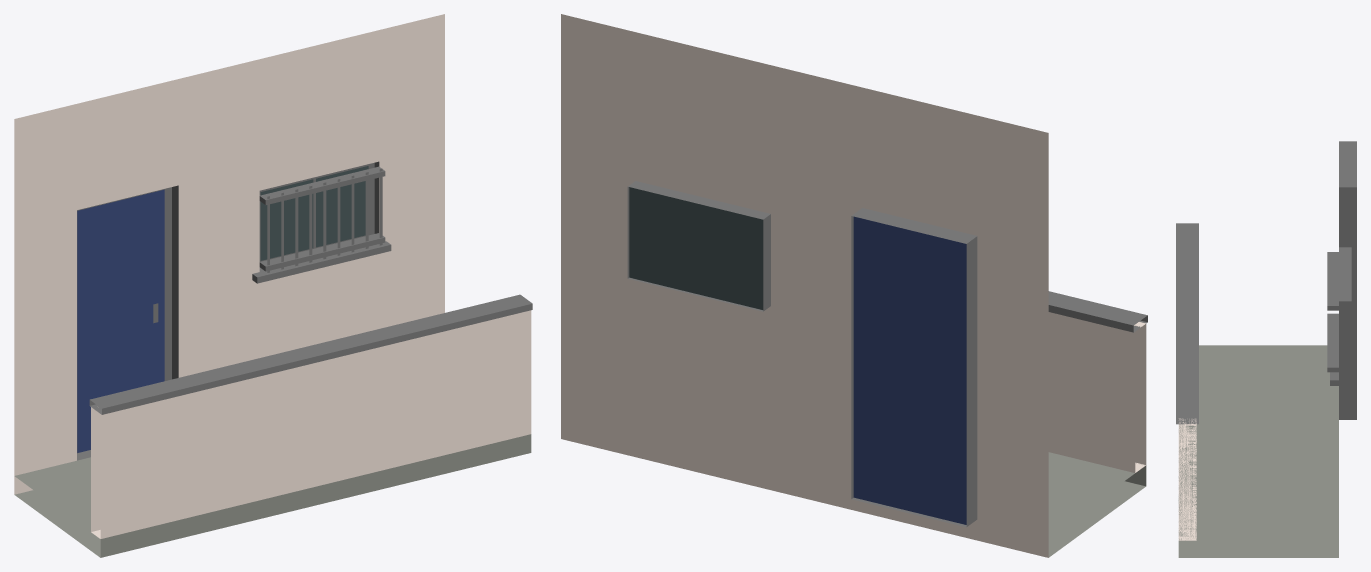
File: mid-w3.fbx
3 views of the same model, side by side, from view 1: azimuth 30°, elevation 25°; view 2: azimuth 150°, elevation 25°; view 3: azimuth 270°, elevation 25° (orthographic). The views are drawn at different scales.
Parts seen in each view (by area): view 1: a2001/200/mid-w3; view 2: a2001/200/mid-w3; view 3: a2001/200/mid-w3.
Part boxes in pixels (box(x1,y1,x2,y2)): a2001/200/mid-w3: box(14, 14, 532, 557); a2001/200/mid-w3: box(561, 14, 1147, 557); a2001/200/mid-w3: box(1176, 141, 1356, 557).
Size of the model in its own units: 3.6 by 3 by 1.41.
